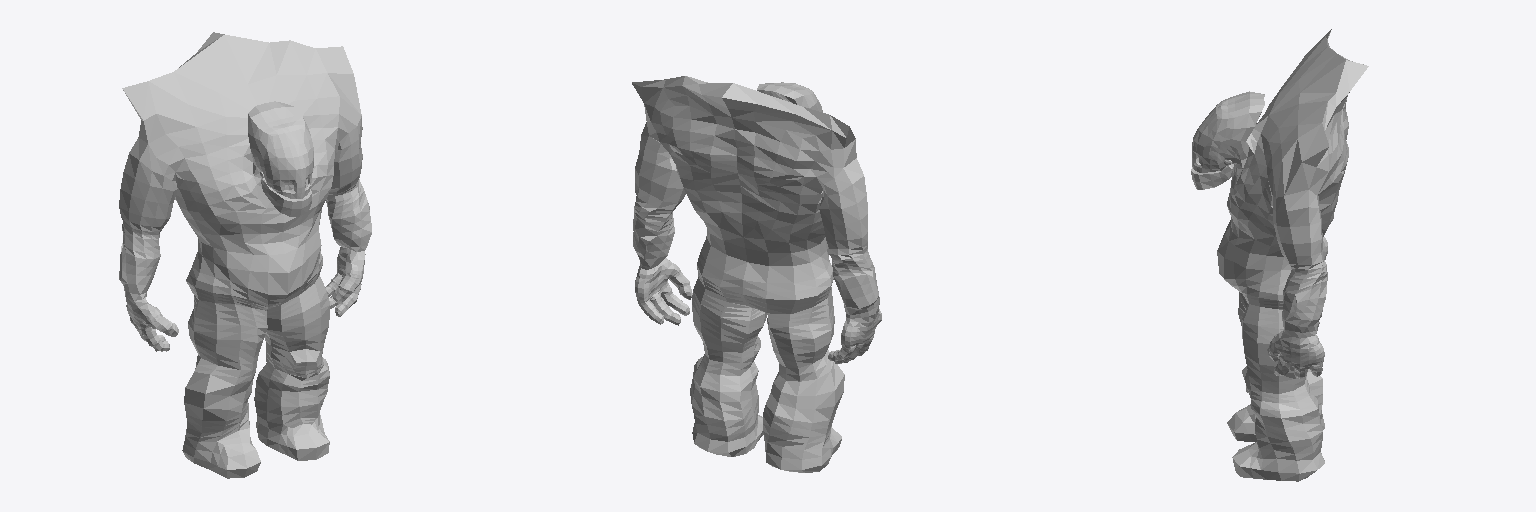
The model's file is golem_000018.obj.
3 views of the same model, side by side, from view 1: azimuth 30°, elevation 25°; view 2: azimuth 150°, elevation 25°; view 3: azimuth 270°, elevation 25° (orthographic).
Visible parts, largest first — view 1: golem; view 2: golem; view 3: golem.
Part boxes in pixels (x1,y1,x2,y2): golem: (119, 32, 371, 478); golem: (632, 76, 881, 472); golem: (1191, 29, 1368, 481).
Bounding box in the file's own units: 7.35 × 11.28 × 4.63.